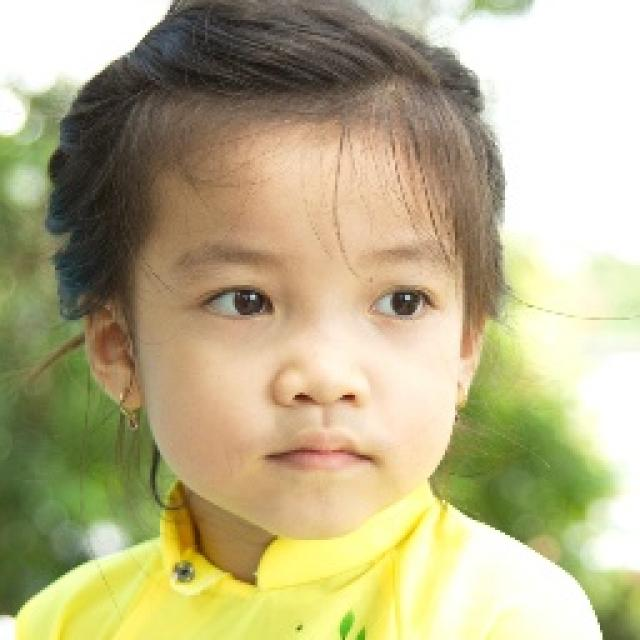earlobe: (77, 290, 146, 410), (452, 281, 488, 412)
